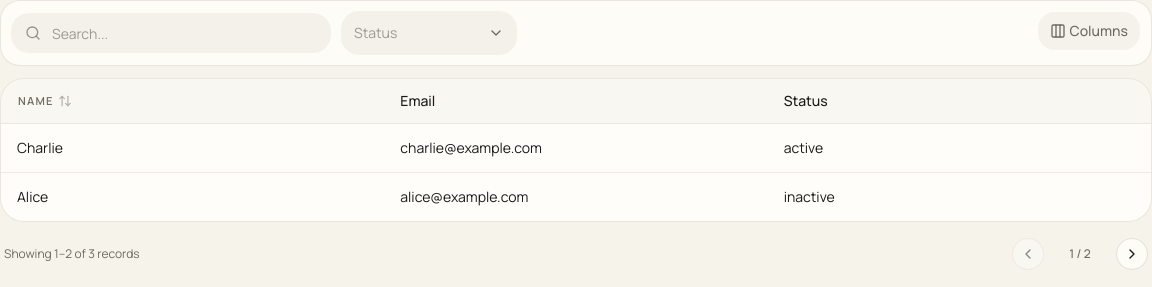
Test: DataTable › paginates rows
Expected: the text "Charlie" is shown, x1=17 y1=138 x2=63 y2=156
Expected: the text "Alice" is shown, x1=17 y1=186 x2=48 y2=206
Click the button named "Next page" at (1132, 254), box x1=1116 y1=238 x2=1148 y2=270
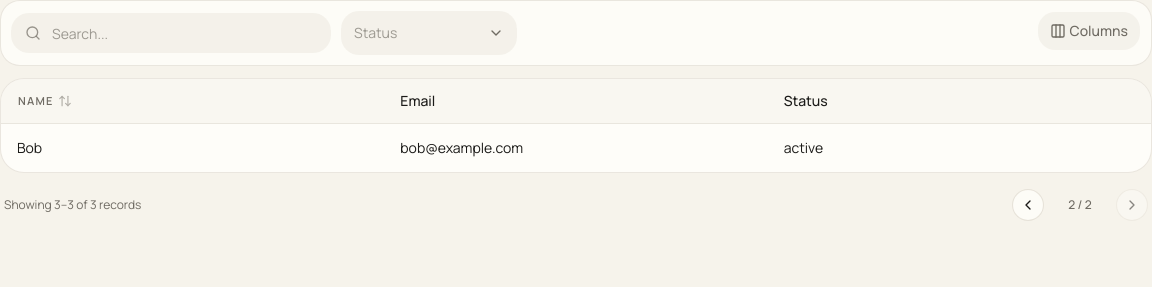
Result: the text "Bob" is shown at x1=17 y1=138 x2=42 y2=156
Result: the text "Charlie" is gone
